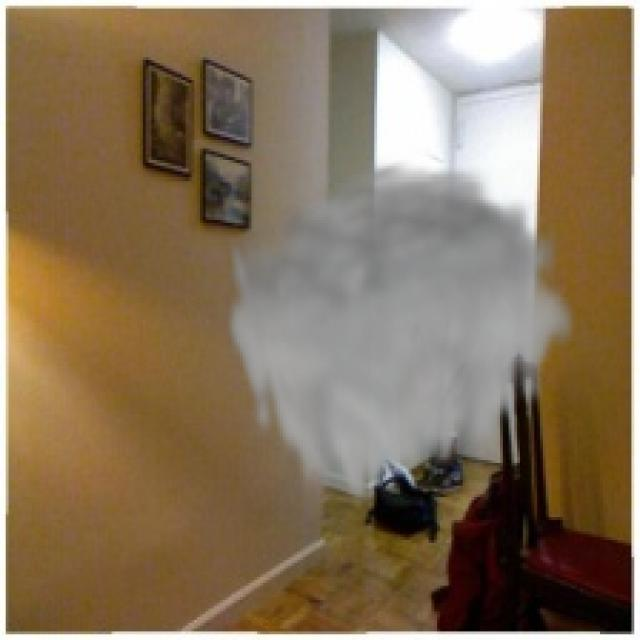Smoke: (223, 155, 580, 520)
